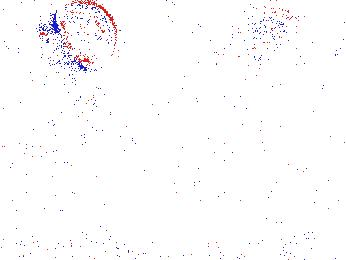moon jellyfish: (227, 8, 306, 88), (17, 90, 99, 155), (54, 1, 118, 71), (301, 3, 346, 86), (1, 1, 52, 52)
